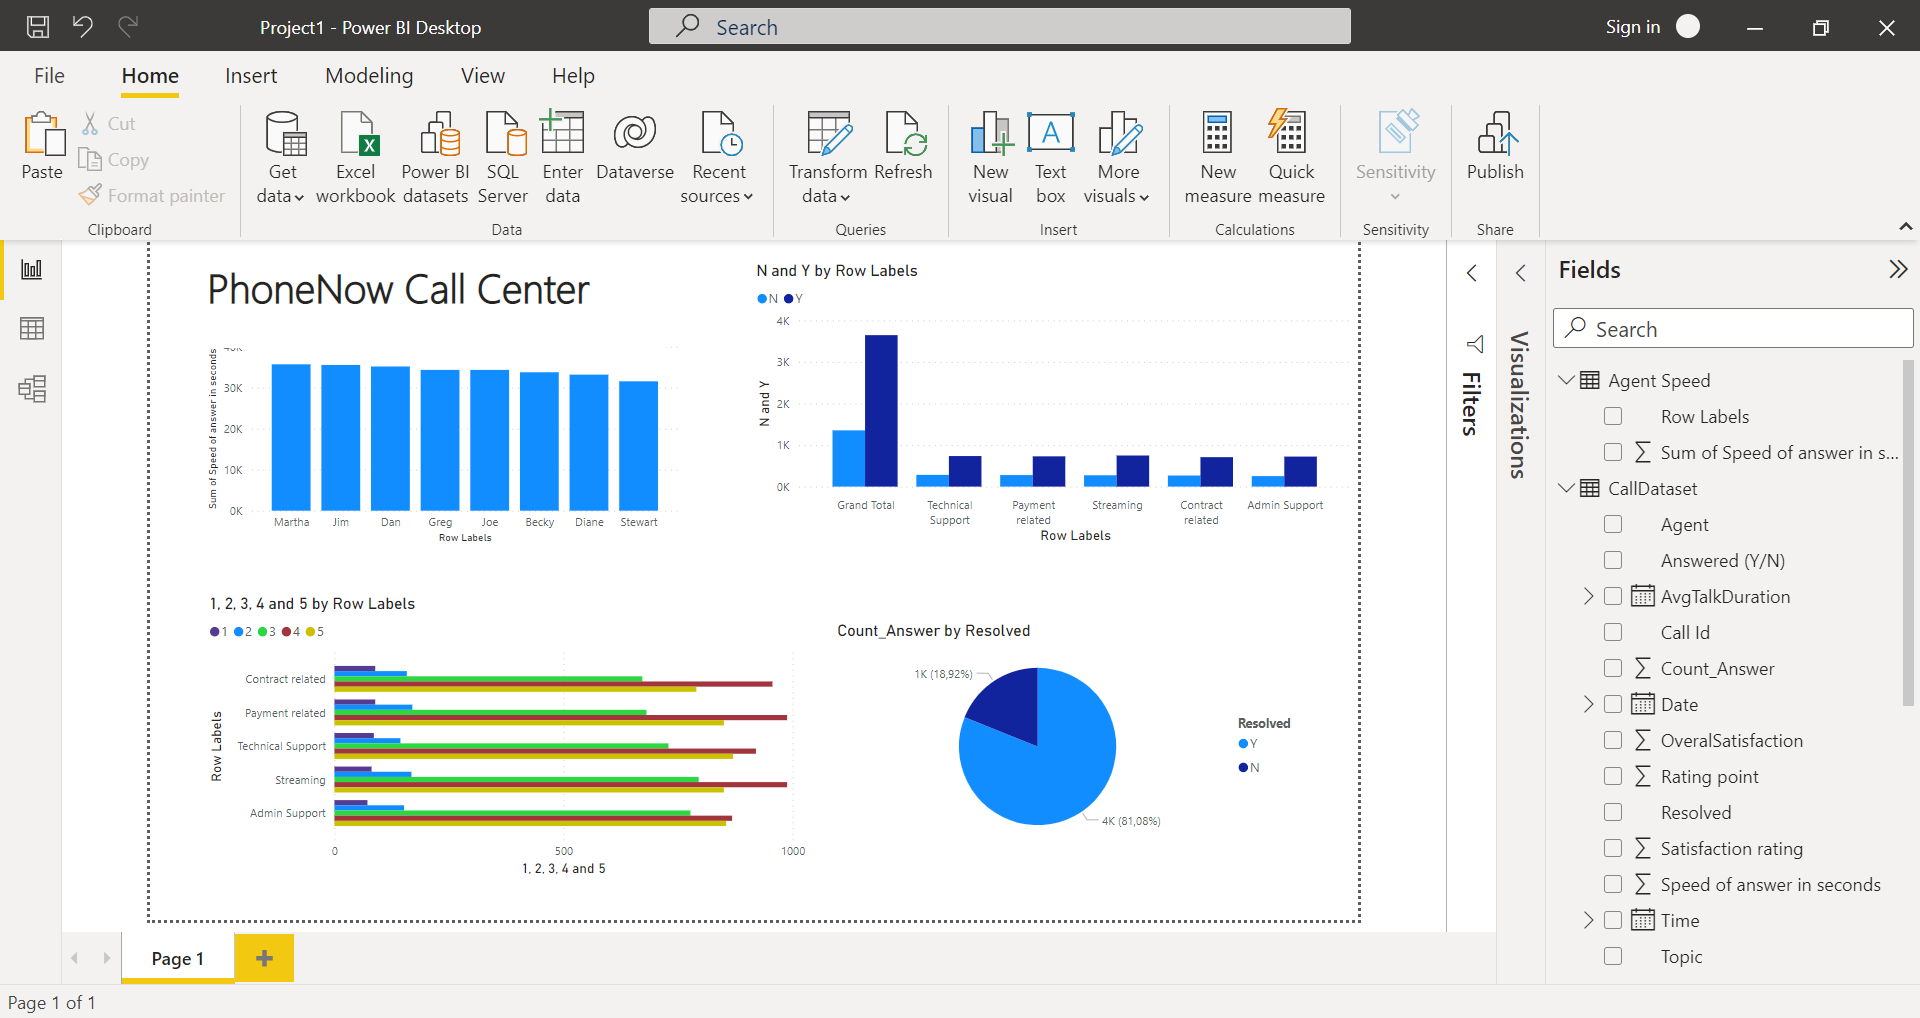

What the dashboard file says about the page in this screenshot:
{"tool":"powerbi","page":{"name":"Page 1","canvas":[1280,720],"ordinal":0},"visuals":[{"type":"columnChart","fields":{"Category":["Agent Speed.Row Labels"],"Y":["Agent Speed.Sum of Speed of answer in seconds"]},"box":[54.9,79.5,509.3,246.2],"z":0},{"type":"textbox","box":[54.9,15.1,490.4,98.5],"z":1000},{"type":"clusteredBarChart","fields":{"Category":["SatisfactionRatingTopic.Row Labels"],"Y":["SatisfactionRatingTopic.Column Labels","SatisfactionRatingTopic.Column3","SatisfactionRatingTopic.Column4","SatisfactionRatingTopic.Column5","SatisfactionRatingTopic.Column6"]},"box":[56.8,374.9,641.9,303],"z":2000},{"type":"pieChart","fields":{"Y":["CallDataset.Count_Answer"],"Category":["CallDataset.Resolved"]},"box":[723.3,403.3,509.3,246.2],"z":3000},{"type":"clusteredColumnChart","fields":{"Category":["Resolved.Row Labels"],"Y":["Resolved.N","Resolved.Y"]},"box":[638.1,22.7,641.9,303],"z":4000}]}

Visuals, with their boxes on the page's 1280x720 design canvas (x1, y1, x2, y2). These are canvas units, not pixel positions in the 1920x1018 screenshot, which may show the page scaled, cropped or inside an application window:
columnChart - Agent Speed.Row Labels x Agent Speed.Sum of Speed of answer in seconds: [55, 80, 564, 326]
textbox: [55, 15, 545, 114]
clusteredBarChart - SatisfactionRatingTopic.Row Labels x SatisfactionRatingTopic.Column Labels: [57, 375, 699, 678]
pieChart - CallDataset.Count_Answer x CallDataset.Resolved: [723, 403, 1233, 650]
clusteredColumnChart - Resolved.Row Labels x Resolved.N: [638, 23, 1280, 326]
